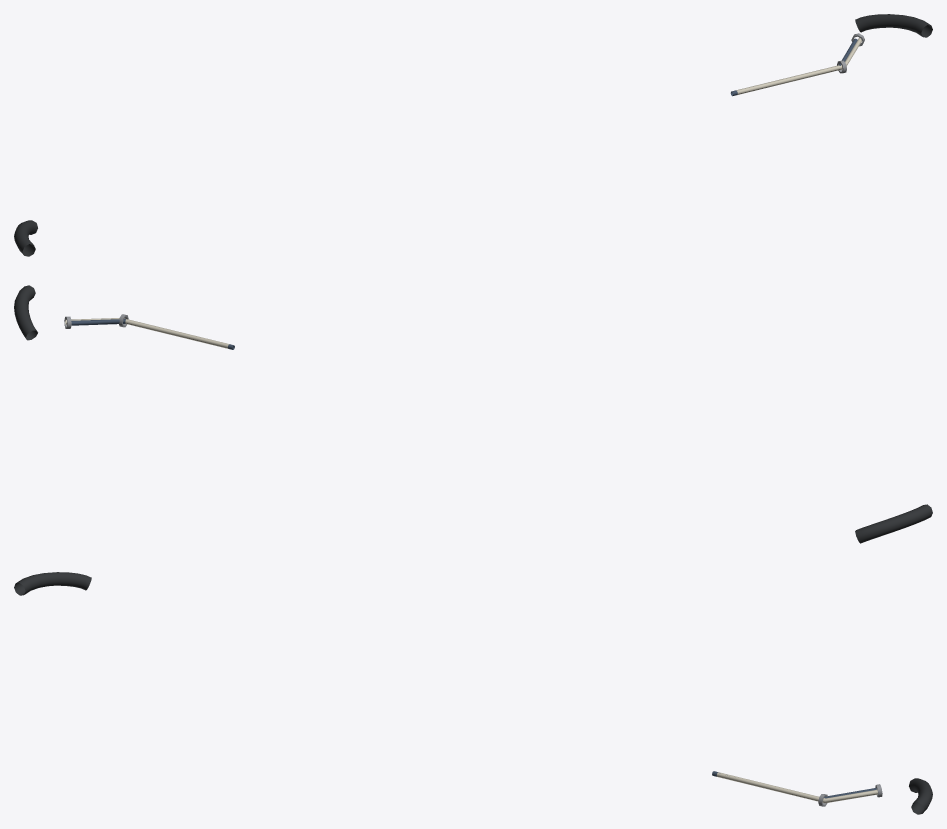
Rendered from rs50s_hoses.obj.
The picture shows the model from 3 angles, top to bottom: view 1: azimuth 30°, elevation 25°; view 2: azimuth 150°, elevation 25°; view 3: azimuth 330°, elevation 25°; orthographic projection.
Parts seen in each view (by area): view 1: rs50s_hoses; view 2: rs50s_hoses; view 3: rs50s_hoses.
Boxes of the visible parts, x1,y1,x2,y2 form: rs50s_hoses: (14, 14, 932, 256); rs50s_hoses: (14, 285, 932, 543); rs50s_hoses: (14, 572, 932, 814).
Size of the model in its own units: 5.07 by 0.1252 by 0.4264.
